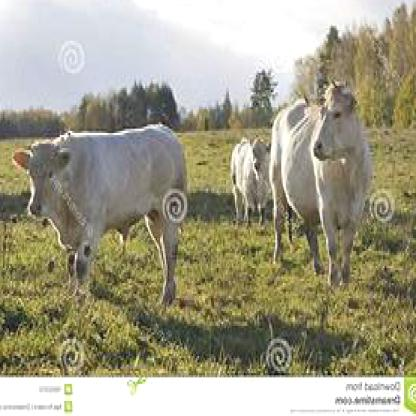cow: (12, 124, 187, 302), (269, 79, 370, 281), (230, 137, 271, 221)
